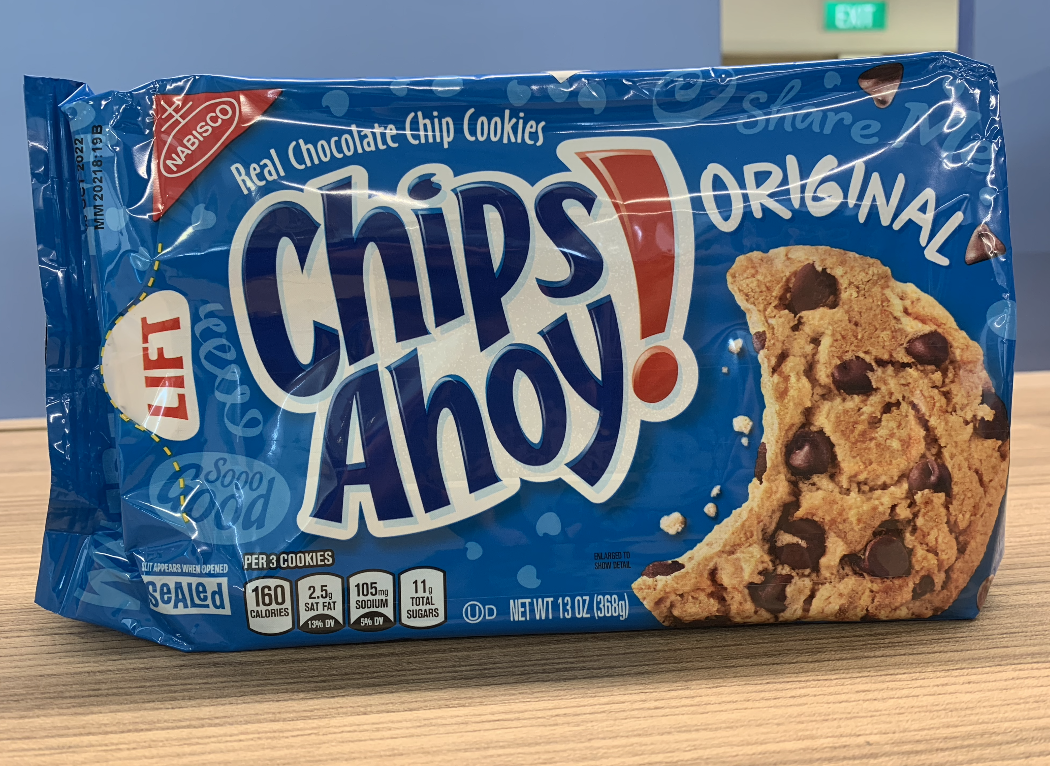cookies_300g-399g: (67, 103, 969, 621)
